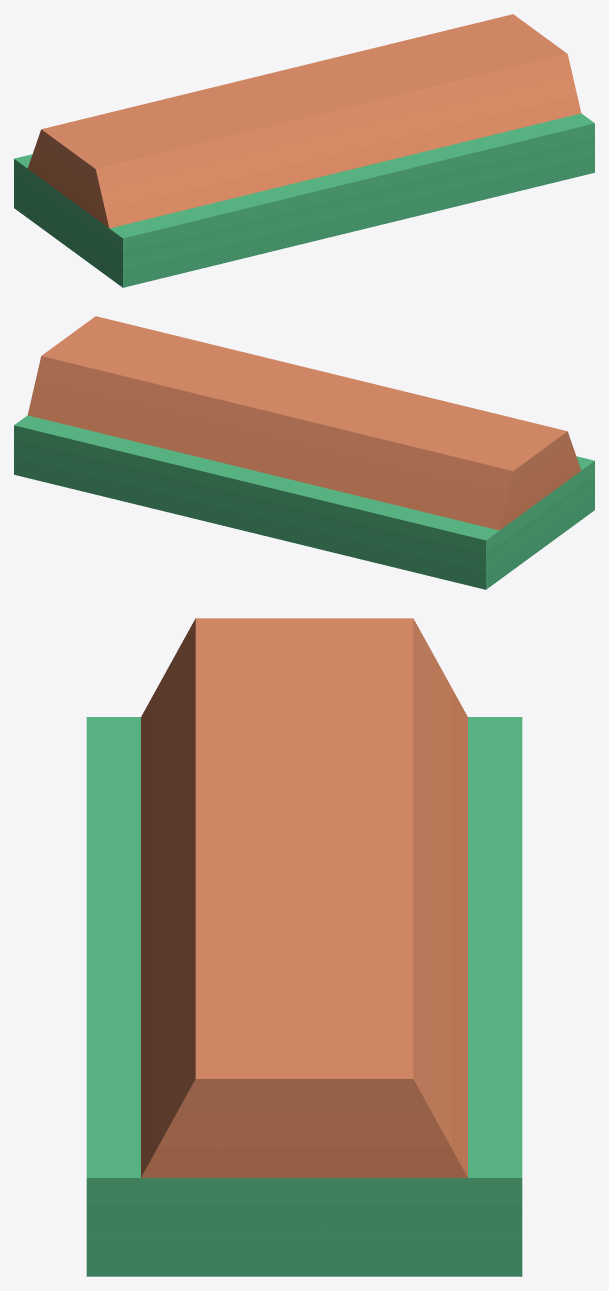
File: cabin-doorway-center.glb
3 renders of one model, top to bottom at view 1: azimuth 30°, elevation 25°; view 2: azimuth 150°, elevation 25°; view 3: azimuth 270°, elevation 25°, orthographic. The views are drawn at different scales.
Parts seen in each view (by area): view 1: cabin-doorway-center; view 2: cabin-doorway-center; view 3: cabin-doorway-center.
Boxes of the visible parts, bbox=[...] form: cabin-doorway-center: bbox=[14, 14, 594, 287]; cabin-doorway-center: bbox=[14, 316, 594, 589]; cabin-doorway-center: bbox=[86, 618, 522, 1276].
Size of the model in its own units: 1 by 0.2 by 0.3999.
Materials: 1 (1 with a texture image).
